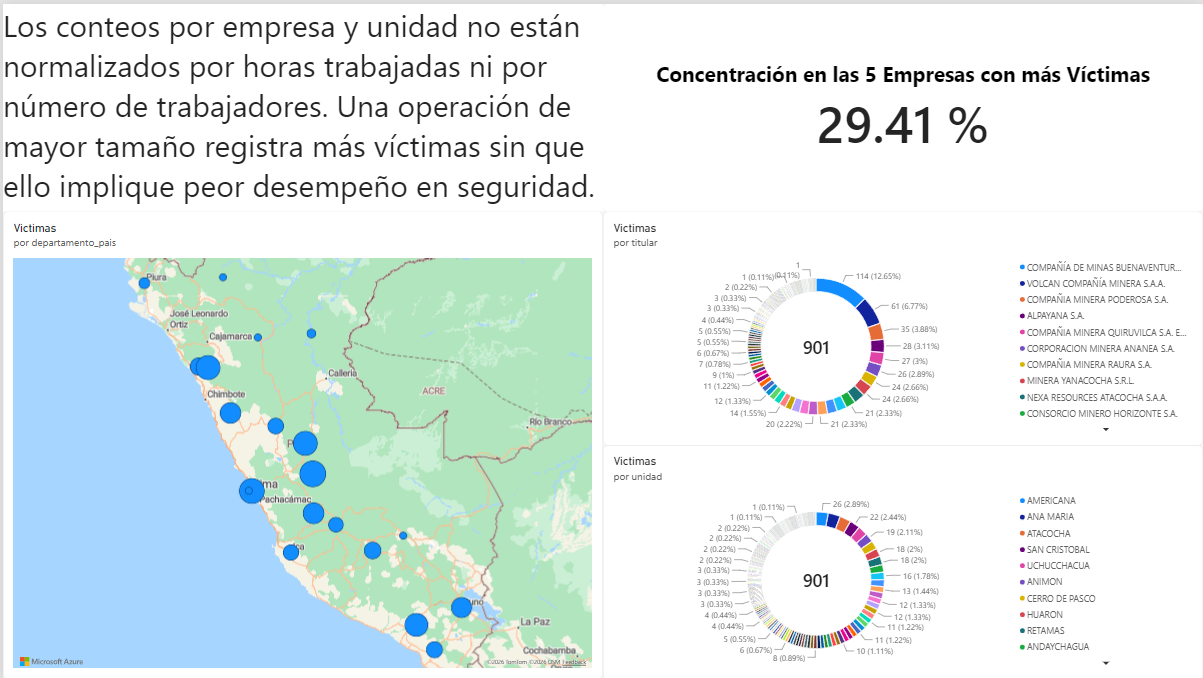

The page's visual inventory and layout, read from the dashboard file:
{"tool":"powerbi","page":{"name":"Geografía","canvas":[1920,1080],"ordinal":2},"visuals":[{"type":"azureMap","fields":{"Category":["dim_unidad.departamento_pais"],"Size":["fact_accidente.Victimas"]},"box":[0,332,960,748],"z":0},{"type":"donutChart","fields":{"Category":["dim_unidad.unidad"],"Y":["fact_accidente.Victimas"]},"box":[960,706,960,374],"z":1000},{"type":"donutChart","fields":{"Category":["dim_empresa.titular"],"Y":["fact_accidente.Victimas"]},"box":[960,332,960,374],"z":2000},{"type":"cardVisual","title":"Concentración en las 5 empresas con más víctimas","fields":{"Data":["fact_accidente.Concentracion Top 5 Empresas %"]},"box":[960,0,960,332],"z":3000},{"type":"textbox","box":[0,0,960,332],"z":4000}]}

Visuals, with their boxes in screenshot pixels (x1, y1, x2, y2), scaled from the page's 1920x1080 canvas onto the 1203x678 screenshot:
azureMap - dim_unidad.departamento_pais x fact_accidente.Victimas: select_region(0, 208, 602, 677)
donutChart - dim_unidad.unidad x fact_accidente.Victimas: select_region(602, 443, 1202, 677)
donutChart - dim_empresa.titular x fact_accidente.Victimas: select_region(602, 208, 1202, 443)
"Concentración en las 5 empresas con más víctimas" cardVisual: select_region(602, 0, 1202, 208)
textbox: select_region(0, 0, 602, 208)
